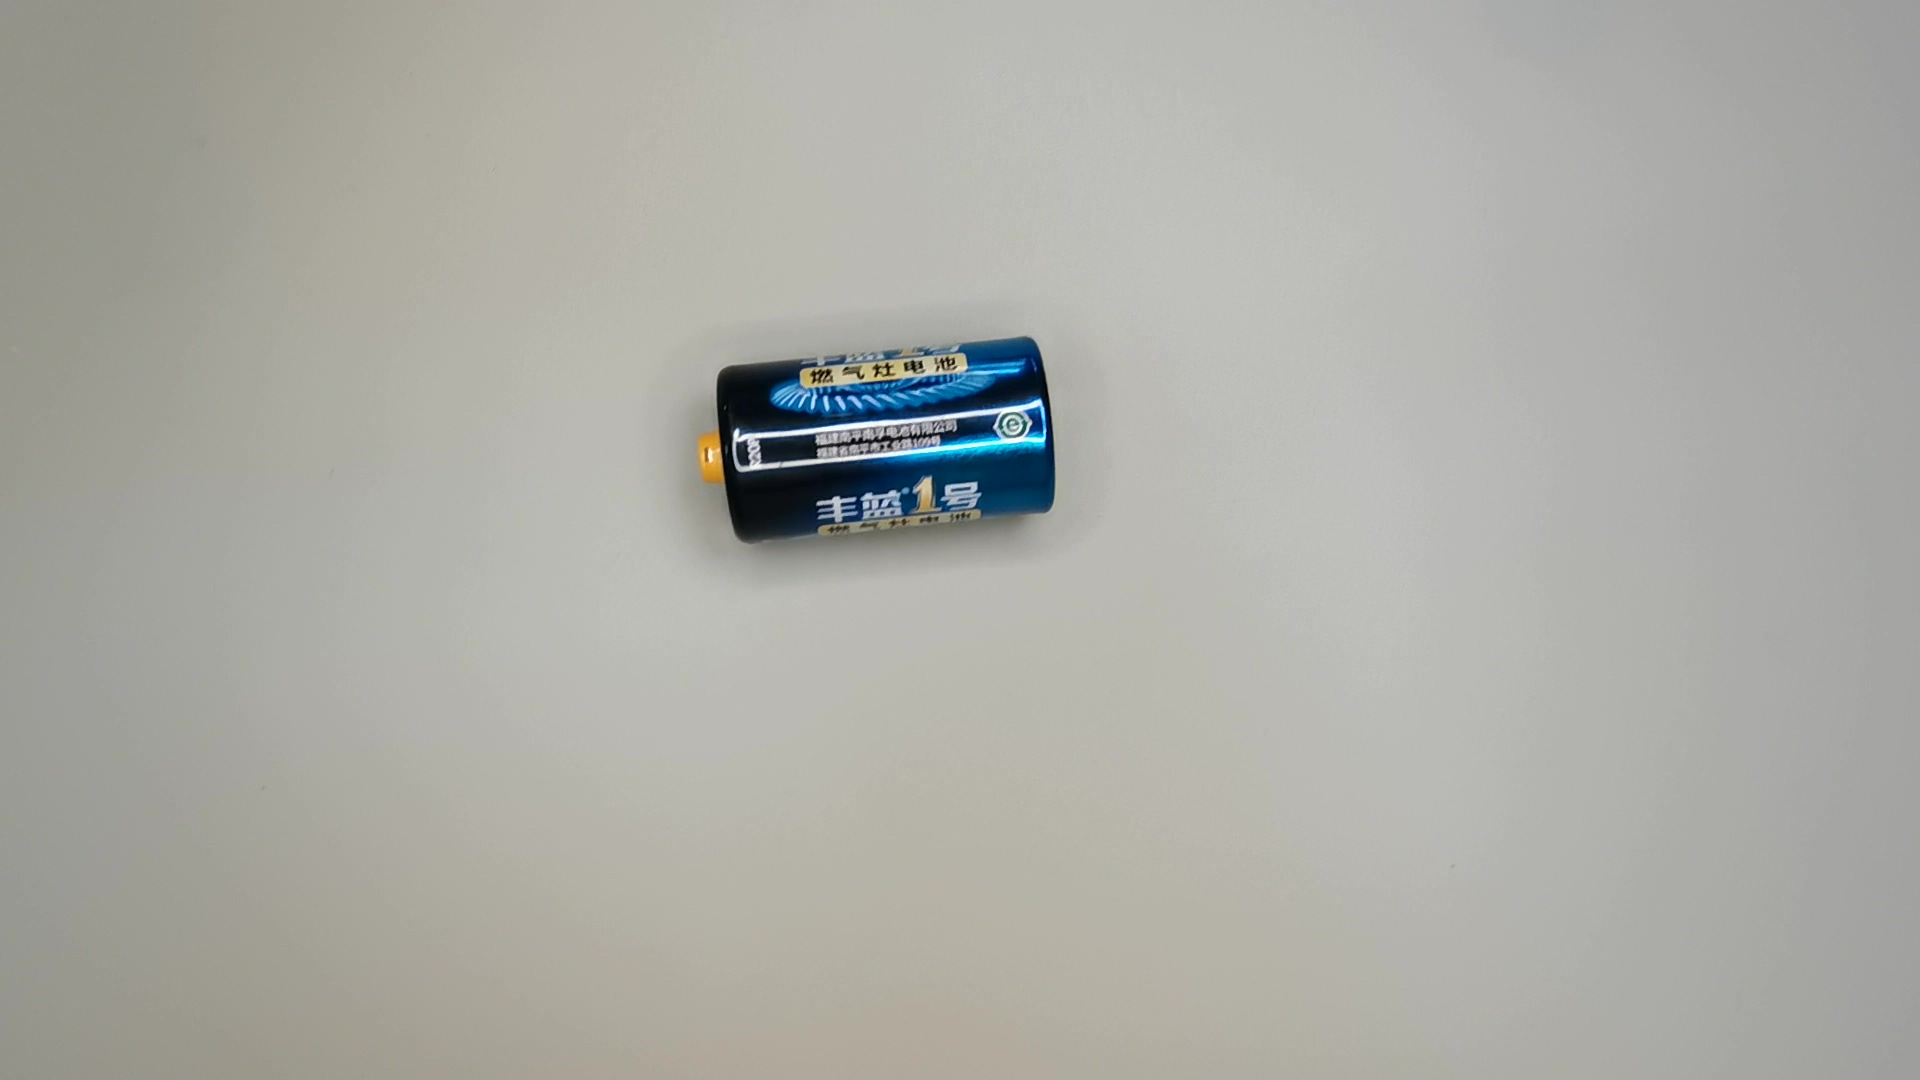battery: (699, 334, 1065, 549)
